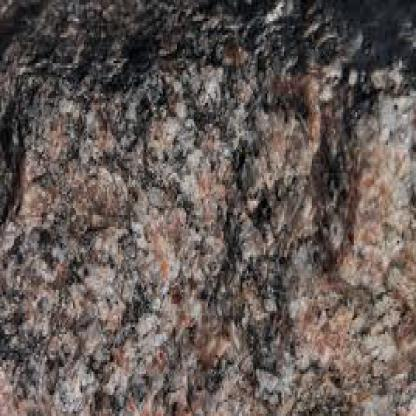Metamorphic_Marble: (1, 4, 415, 415)
